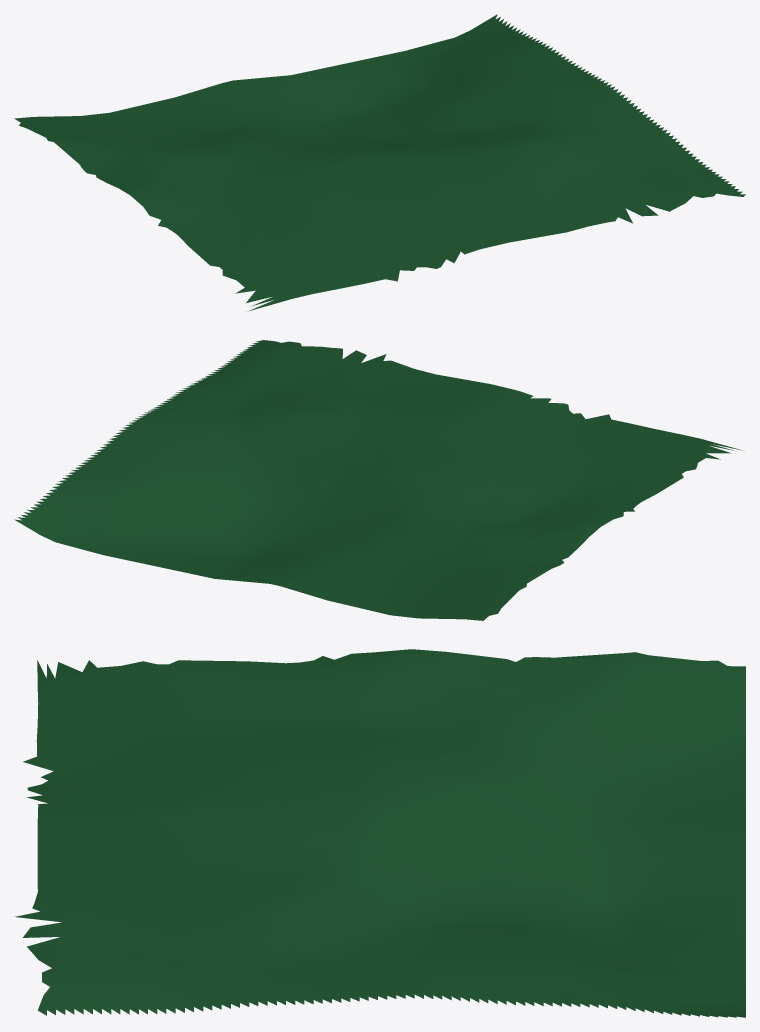
Rendered from payo_land_xm4_ym4_lod2.glb.
The picture shows the model from 3 angles, top to bottom: view 1: azimuth 30°, elevation 25°; view 2: azimuth 150°, elevation 25°; view 3: azimuth 270°, elevation 25°; orthographic projection. The views are drawn at different scales.
Visible parts, largest first — view 1: payo_land_xm4_ym4; view 2: payo_land_xm4_ym4; view 3: payo_land_xm4_ym4.
Boxes of the visible parts, x1,y1,x2,y2 form: payo_land_xm4_ym4: [14, 14, 745, 311]; payo_land_xm4_ym4: [14, 340, 742, 620]; payo_land_xm4_ym4: [15, 649, 745, 1017].
Bounding box in the file's own units: 267 × 22.84 × 239.
